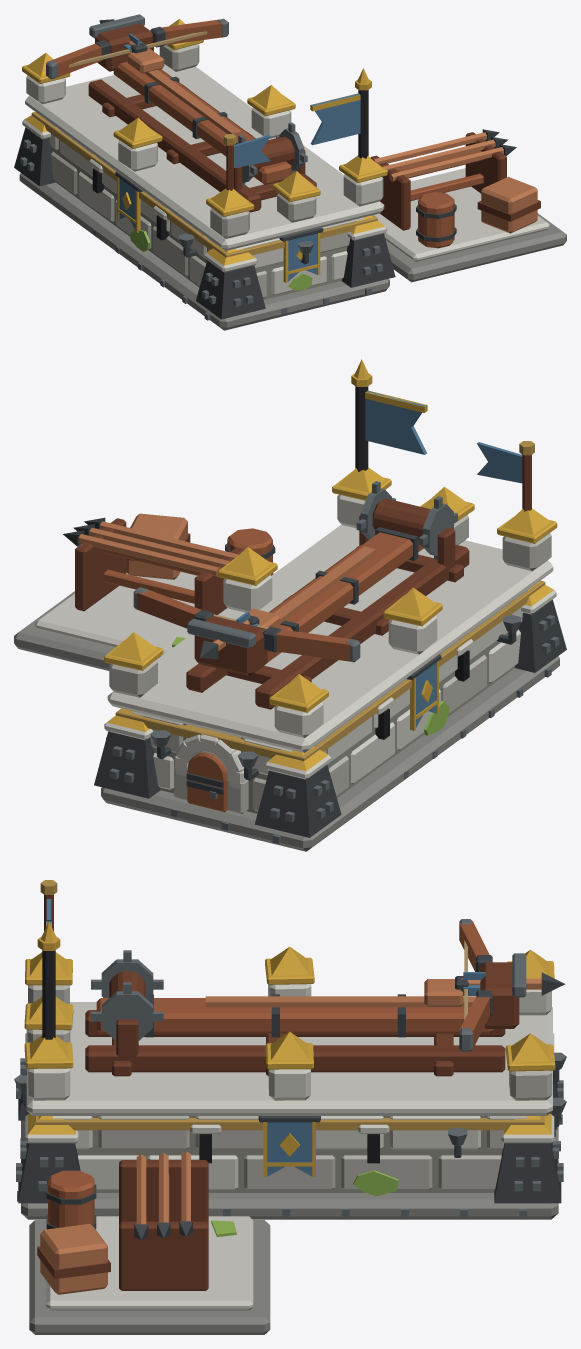
The model's file is ballista.glb.
The picture shows the model from 3 angles, top to bottom: view 1: azimuth 30°, elevation 25°; view 2: azimuth 150°, elevation 25°; view 3: azimuth 270°, elevation 25°; orthographic projection. The views are drawn at different scales.
Visible parts, largest first — view 1: BWAR_G_ballista__Cornice, BWAR_G_ballista__Plinth, BWAR_G_ballista__BaySlab, BWAR_G_ballista__BayPad, BWAR_G_ballista__Rail-1, BWAR_G_ballista__Stock, BWAR_G_ballista__Footm1m1, BWAR_G_ballista__TrimBand, BWAR_G_ballista__BayCrate, BWAR_G_ballista__Foot1m1, BWAR_G_ballista__WallShell, BWAR_G_ballista__StandardFlag (+50 smaller); view 2: BWAR_G_ballista__Cornice, BWAR_G_ballista__Plinth, BWAR_G_ballista__BaySlab, BWAR_G_ballista__Rail-1, BWAR_G_ballista__Stock, BWAR_G_ballista__TrimBand, BWAR_G_ballista__Footm11, BWAR_G_ballista__Foot11, BWAR_G_ballista__StandardFlag, BWAR_G_ballista__RackEnd1, BWAR_G_ballista__BayPad, BWAR_G_ballista__Head (+45 smaller); view 3: BWAR_G_ballista__Cornice, BWAR_G_ballista__Rail1, BWAR_G_ballista__Plinth, BWAR_G_ballista__BayPad, BWAR_G_ballista__Stock, BWAR_G_ballista__BaySlab, BWAR_G_ballista__RackEnd1, BWAR_G_ballista__TrimBand, BWAR_G_ballista__WallShell, BWAR_G_ballista__RackEnd-1, BWAR_G_ballista__BayCrate, BWAR_G_ballista__WinchSpokes (+47 smaller).
Boxes of the visible parts, bbox=[...] form: BWAR_G_ballista__Cornice: bbox=[25, 64, 384, 250]; BWAR_G_ballista__Plinth: bbox=[19, 173, 389, 330]; BWAR_G_ballista__BaySlab: bbox=[374, 168, 549, 261]; BWAR_G_ballista__BayPad: bbox=[386, 213, 566, 282]; BWAR_G_ballista__Rail-1: bbox=[88, 79, 261, 212]; BWAR_G_ballista__Stock: bbox=[113, 61, 291, 184]; BWAR_G_ballista__Footm1m1: bbox=[196, 260, 265, 319]; BWAR_G_ballista__TrimBand: bbox=[31, 112, 377, 257]; BWAR_G_ballista__BayCrate: bbox=[481, 177, 537, 233]; BWAR_G_ballista__Foot1m1: bbox=[341, 233, 395, 287]; BWAR_G_ballista__WallShell: bbox=[52, 139, 347, 299]; BWAR_G_ballista__StandardFlag: bbox=[310, 93, 360, 145]; BWAR_G_ballista__Cornice: bbox=[107, 524, 553, 752]; BWAR_G_ballista__Plinth: bbox=[101, 656, 559, 851]; BWAR_G_ballista__BaySlab: bbox=[35, 571, 197, 658]; BWAR_G_ballista__Rail-1: bbox=[255, 544, 469, 709]; BWAR_G_ballista__Stock: bbox=[267, 532, 423, 662]; BWAR_G_ballista__TrimBand: bbox=[115, 580, 545, 761]; BWAR_G_ballista__Footm11: bbox=[254, 765, 341, 837]; BWAR_G_ballista__Foot11: bbox=[94, 731, 160, 798]; BWAR_G_ballista__StandardFlag: bbox=[365, 391, 426, 454]; BWAR_G_ballista__RackEnd1: bbox=[75, 518, 126, 611]; BWAR_G_ballista__BayPad: bbox=[14, 591, 156, 670]; BWAR_G_ballista__Head: bbox=[194, 616, 267, 676]; BWAR_G_ballista__Cornice: bbox=[26, 1002, 552, 1115]; BWAR_G_ballista__Rail1: bbox=[85, 1045, 505, 1072]; BWAR_G_ballista__Plinth: bbox=[21, 1120, 558, 1219]; BWAR_G_ballista__BayPad: bbox=[29, 1220, 270, 1334]; BWAR_G_ballista__Stock: bbox=[96, 998, 494, 1033]; BWAR_G_ballista__BaySlab: bbox=[46, 1216, 253, 1310]; BWAR_G_ballista__RackEnd1: bbox=[119, 1221, 208, 1290]; BWAR_G_ballista__TrimBand: bbox=[35, 1116, 544, 1130]; BWAR_G_ballista__WallShell: bbox=[77, 1116, 502, 1192]; BWAR_G_ballista__RackEnd-1: bbox=[119, 1160, 208, 1223]; BWAR_G_ballista__BayCrate: bbox=[40, 1224, 107, 1294]; BWAR_G_ballista__WinchSpokes: bbox=[91, 950, 163, 1040].
Size of the model in its own units: 1.91 by 1.14 by 1.97.
